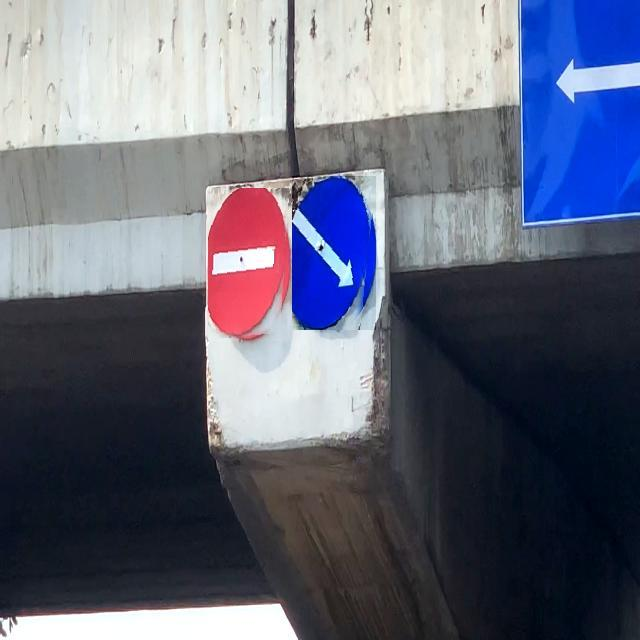P-102: (208, 188, 290, 341)
R-302a: (292, 176, 376, 330)
